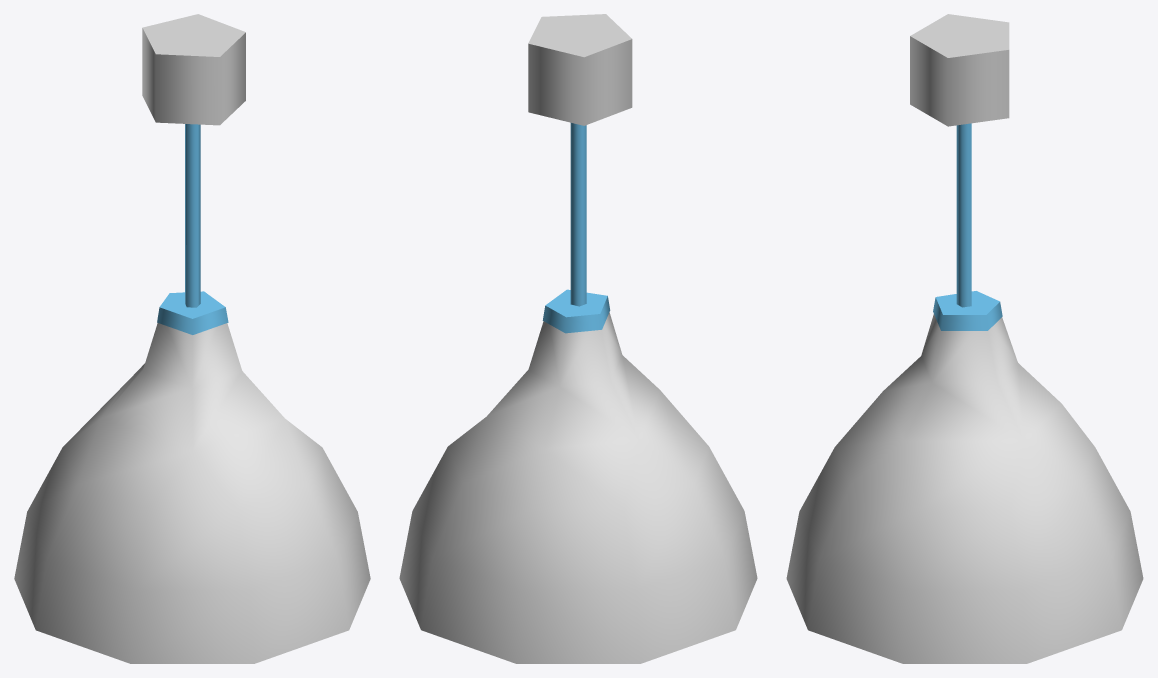
File: lamp_001.glb
3 renders of one model, left to right at view 1: azimuth 30°, elevation 25°; view 2: azimuth 150°, elevation 25°; view 3: azimuth 270°, elevation 25°, orthographic.
Parts seen in each view (by area): view 1: lamp_001; view 2: lamp_001; view 3: lamp_001.
Part boxes in pixels (<box>): lamp_001: <box>14,14,370,663</box>; lamp_001: <box>399,14,757,663</box>; lamp_001: <box>786,14,1143,663</box>.
Size of the model in its own units: 0.3141 by 0.5481 by 0.319.
Materials: 1 (1 with a texture image).
